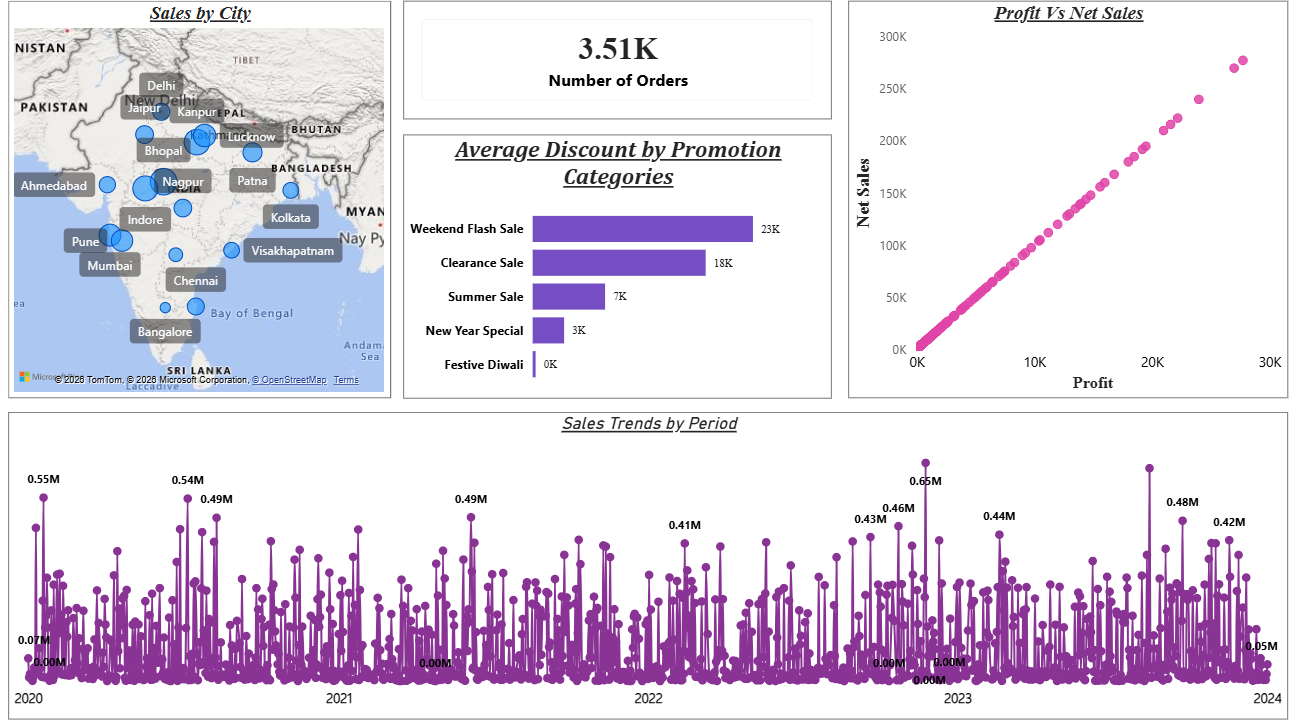

This screenshot's page, from the dashboard's own definition file:
{"tool":"powerbi","page":{"name":"Overview","canvas":[1280,720],"ordinal":0},"visuals":[{"type":"lineChart","title":"Sales Trends by Period ","fields":{"Y":["Sum(Fact Table.Net Sales)"],"Category":["Fact Table.Date (dd/mm/yyyy).Variation.Date Hierarchy.Year"]},"box":[15.9,410.9,1252.2,300.8],"z":0},{"type":"scatterChart","title":"Profit Vs Net Sales","fields":{"X":["Fact Table.Profit"],"Y":["Fact Table.Net Sales"]},"box":[837.6,8.6,430.4,388.9],"z":1000},{"type":"barChart","title":"Average Discount by Promotion Categories","fields":{"Y":["Avg(Fact Table.Discount)"],"Category":["Dim Promotion.Promotion Name"]},"box":[402.3,139.4,419.4,258],"z":2000},{"type":"map","title":"Sales by City","fields":{"Category":["Dim Customers.City"],"Size":["Sum(Fact Table.Net Sales)"]},"box":[15.9,8.6,374.2,388.9],"z":3000},{"type":"cardVisual","fields":{"Data":["Count(Fact Table.Order Id)"]},"box":[402.3,8.6,419.4,116.2],"z":4000}]}

Visuals, with their boxes in screenshot pixels (x1, y1, x2, y2), scaled from the page's 1280x720 canvas onto the 1293x723 screenshot:
"Sales Trends by Period " lineChart: [16,413,1281,715]
"Profit Vs Net Sales" scatterChart: [846,9,1281,399]
"Average Discount by Promotion Categories" barChart: [406,140,830,399]
"Sales by City" map: [16,9,394,399]
cardVisual - Count(Fact Table.Order Id): [406,9,830,125]
